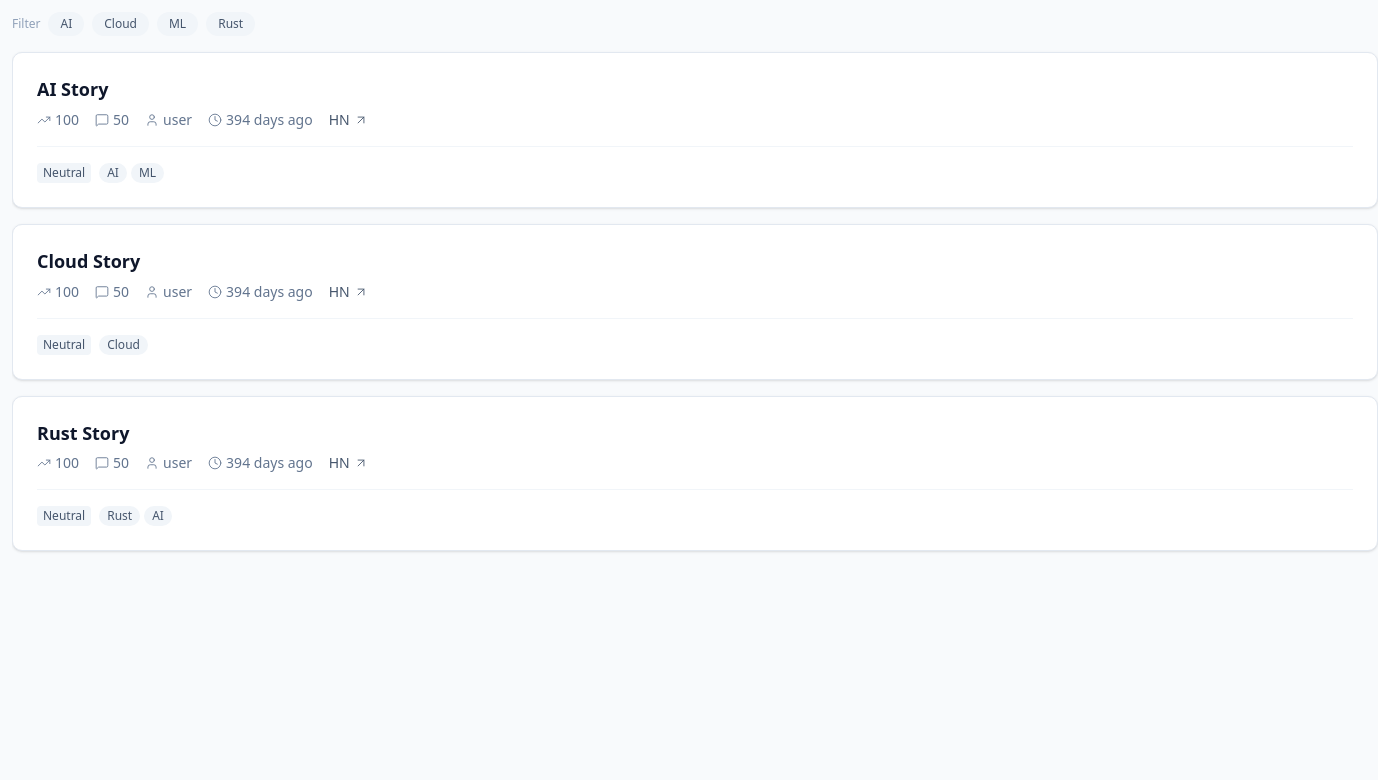
Scenario: TopicFilteredStoryList › clicking a topic pill filters the visible story list
This screenshot has width=1378, height=780.
Click the button "Cloud". click: [121, 24]
box: top-left (92, 12), bottom-right (149, 36)
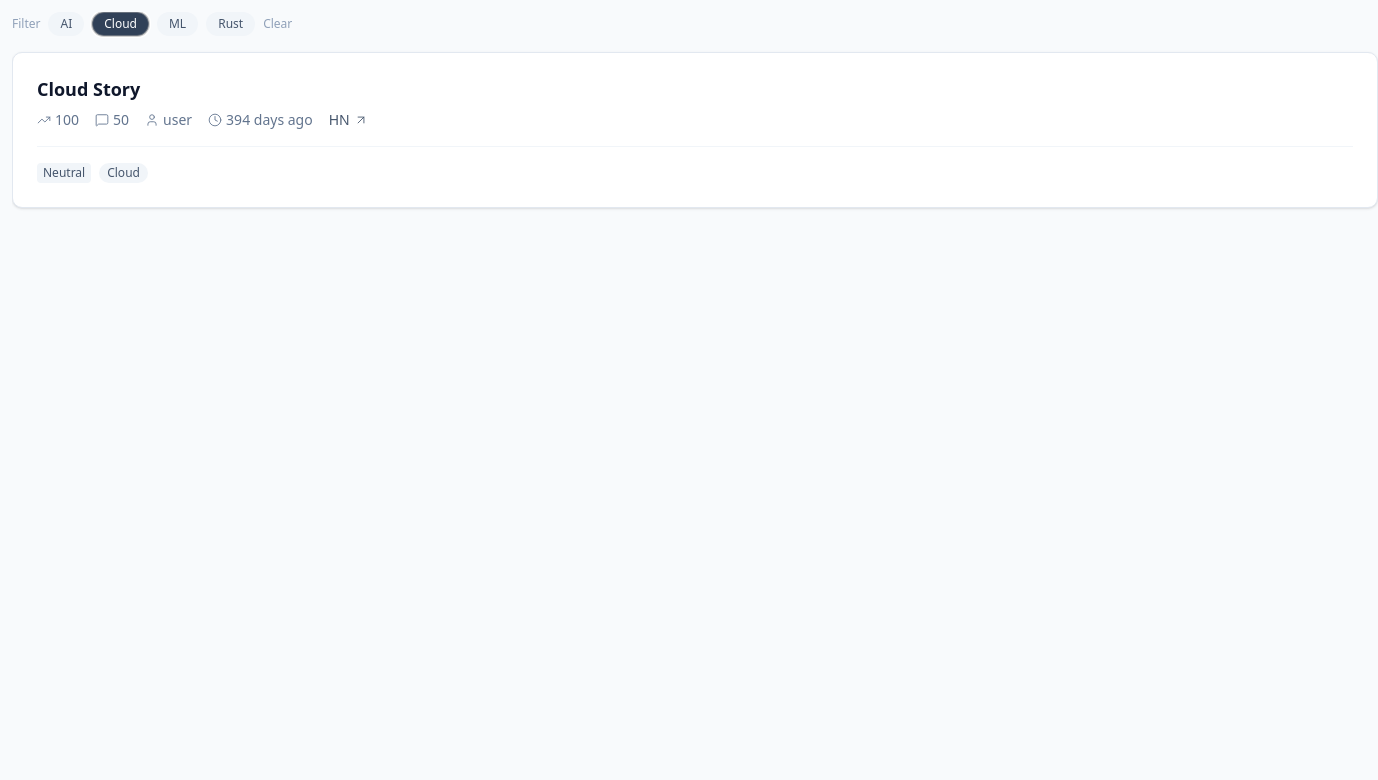
Expected: the heading "Cloud Story" is shown, top-left (37, 77), bottom-right (140, 101)
Expected: the heading "AI Story" is gone
Expected: the heading "Rust Story" is gone
